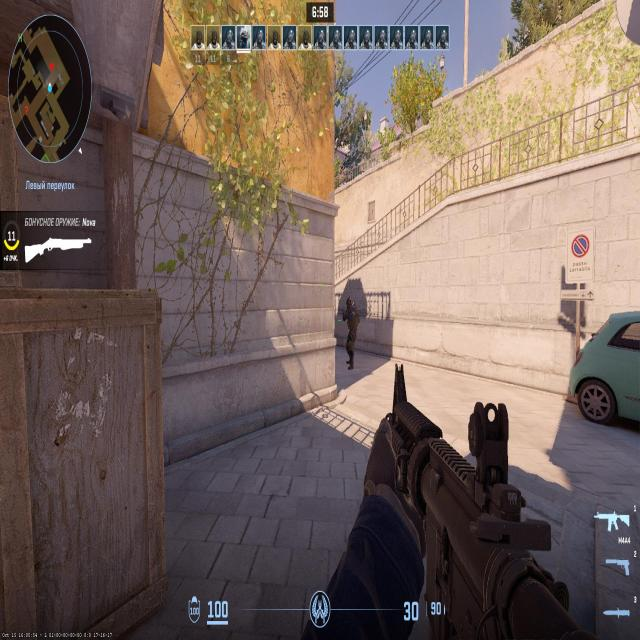CT: (346, 301, 360, 369)
CT_heat: (350, 300, 356, 313)
